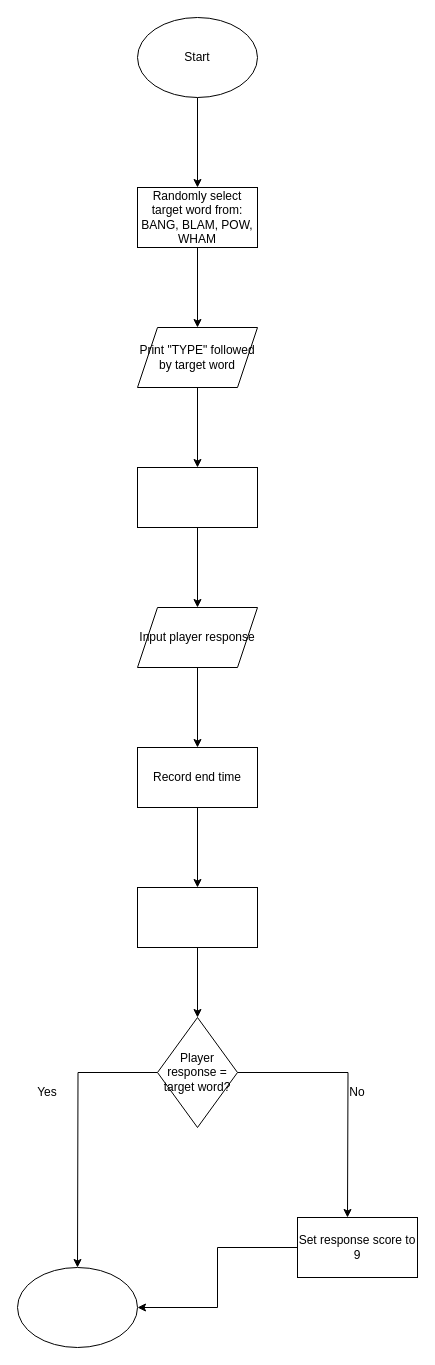
This 435x1365 diagram has some shape labels left out. Here are the shapes that lost their labels. From the top down, the centre of each, then its label:
At point (197, 497): "Record start time".
At point (197, 917): "Compute response score from elapsed time and skill level".
At point (77, 1307): "Return response score".
